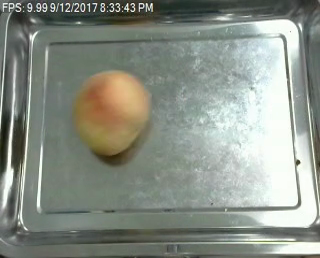Peach: (73, 70, 150, 157)
